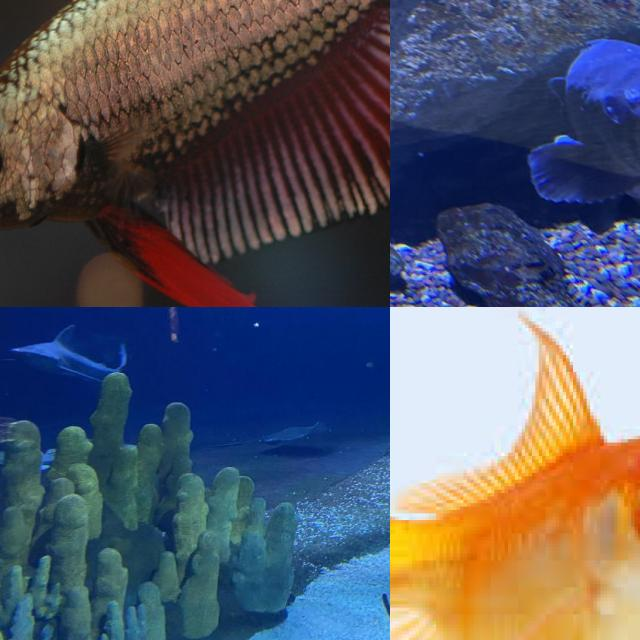fish: (0, 0, 390, 307), (390, 307, 640, 640), (523, 38, 640, 217)
